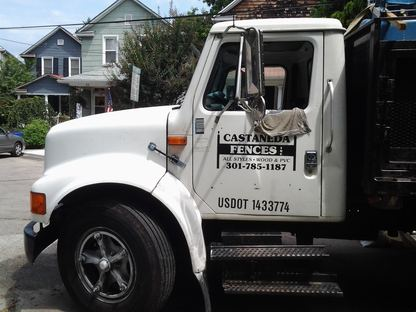truck: (23, 1, 410, 312)
